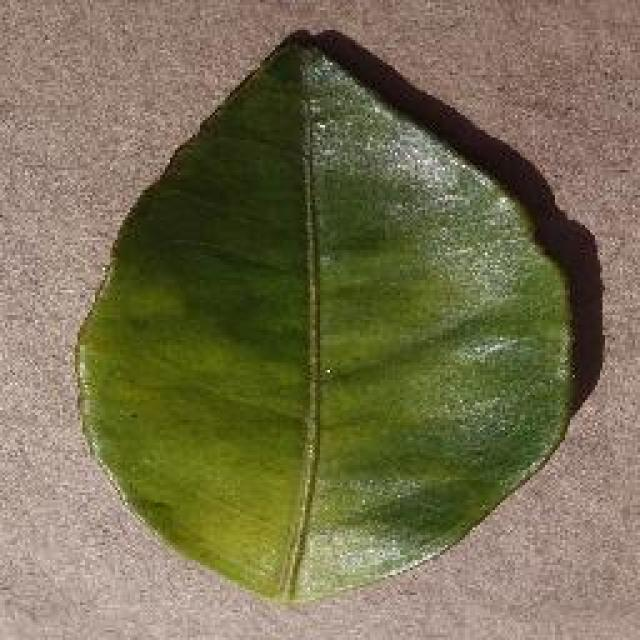Orange_Haunglongbing_Citrus_greening: (116, 98, 509, 578)
